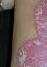plaque psoriasis: (16, 35, 47, 67), (34, 0, 47, 49)
